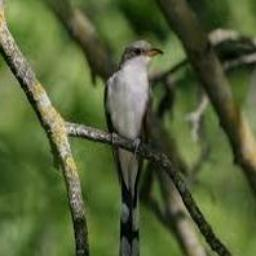Cuckoo: (105, 41, 164, 256)
